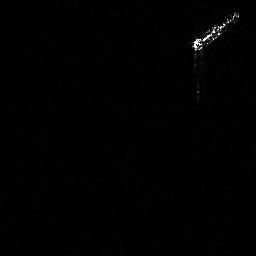ship: (188, 8, 241, 58)
